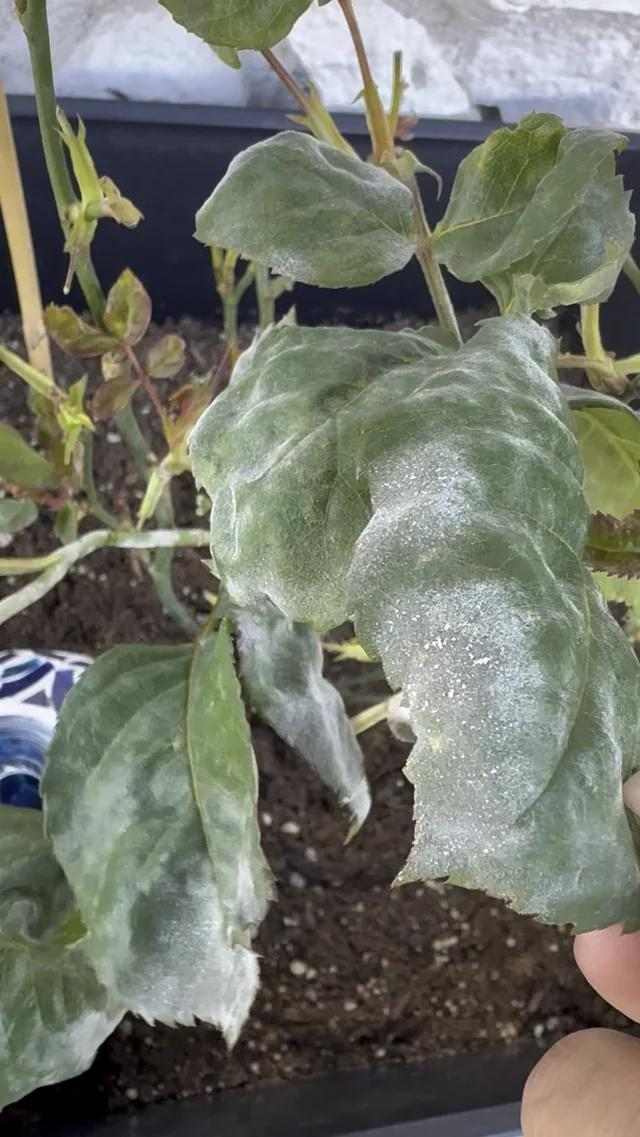powdery_mildew: (50, 128, 640, 1137)
